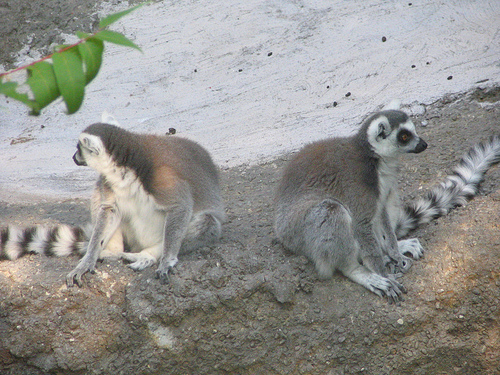cat: (273, 109, 499, 303), (0, 122, 225, 286)
